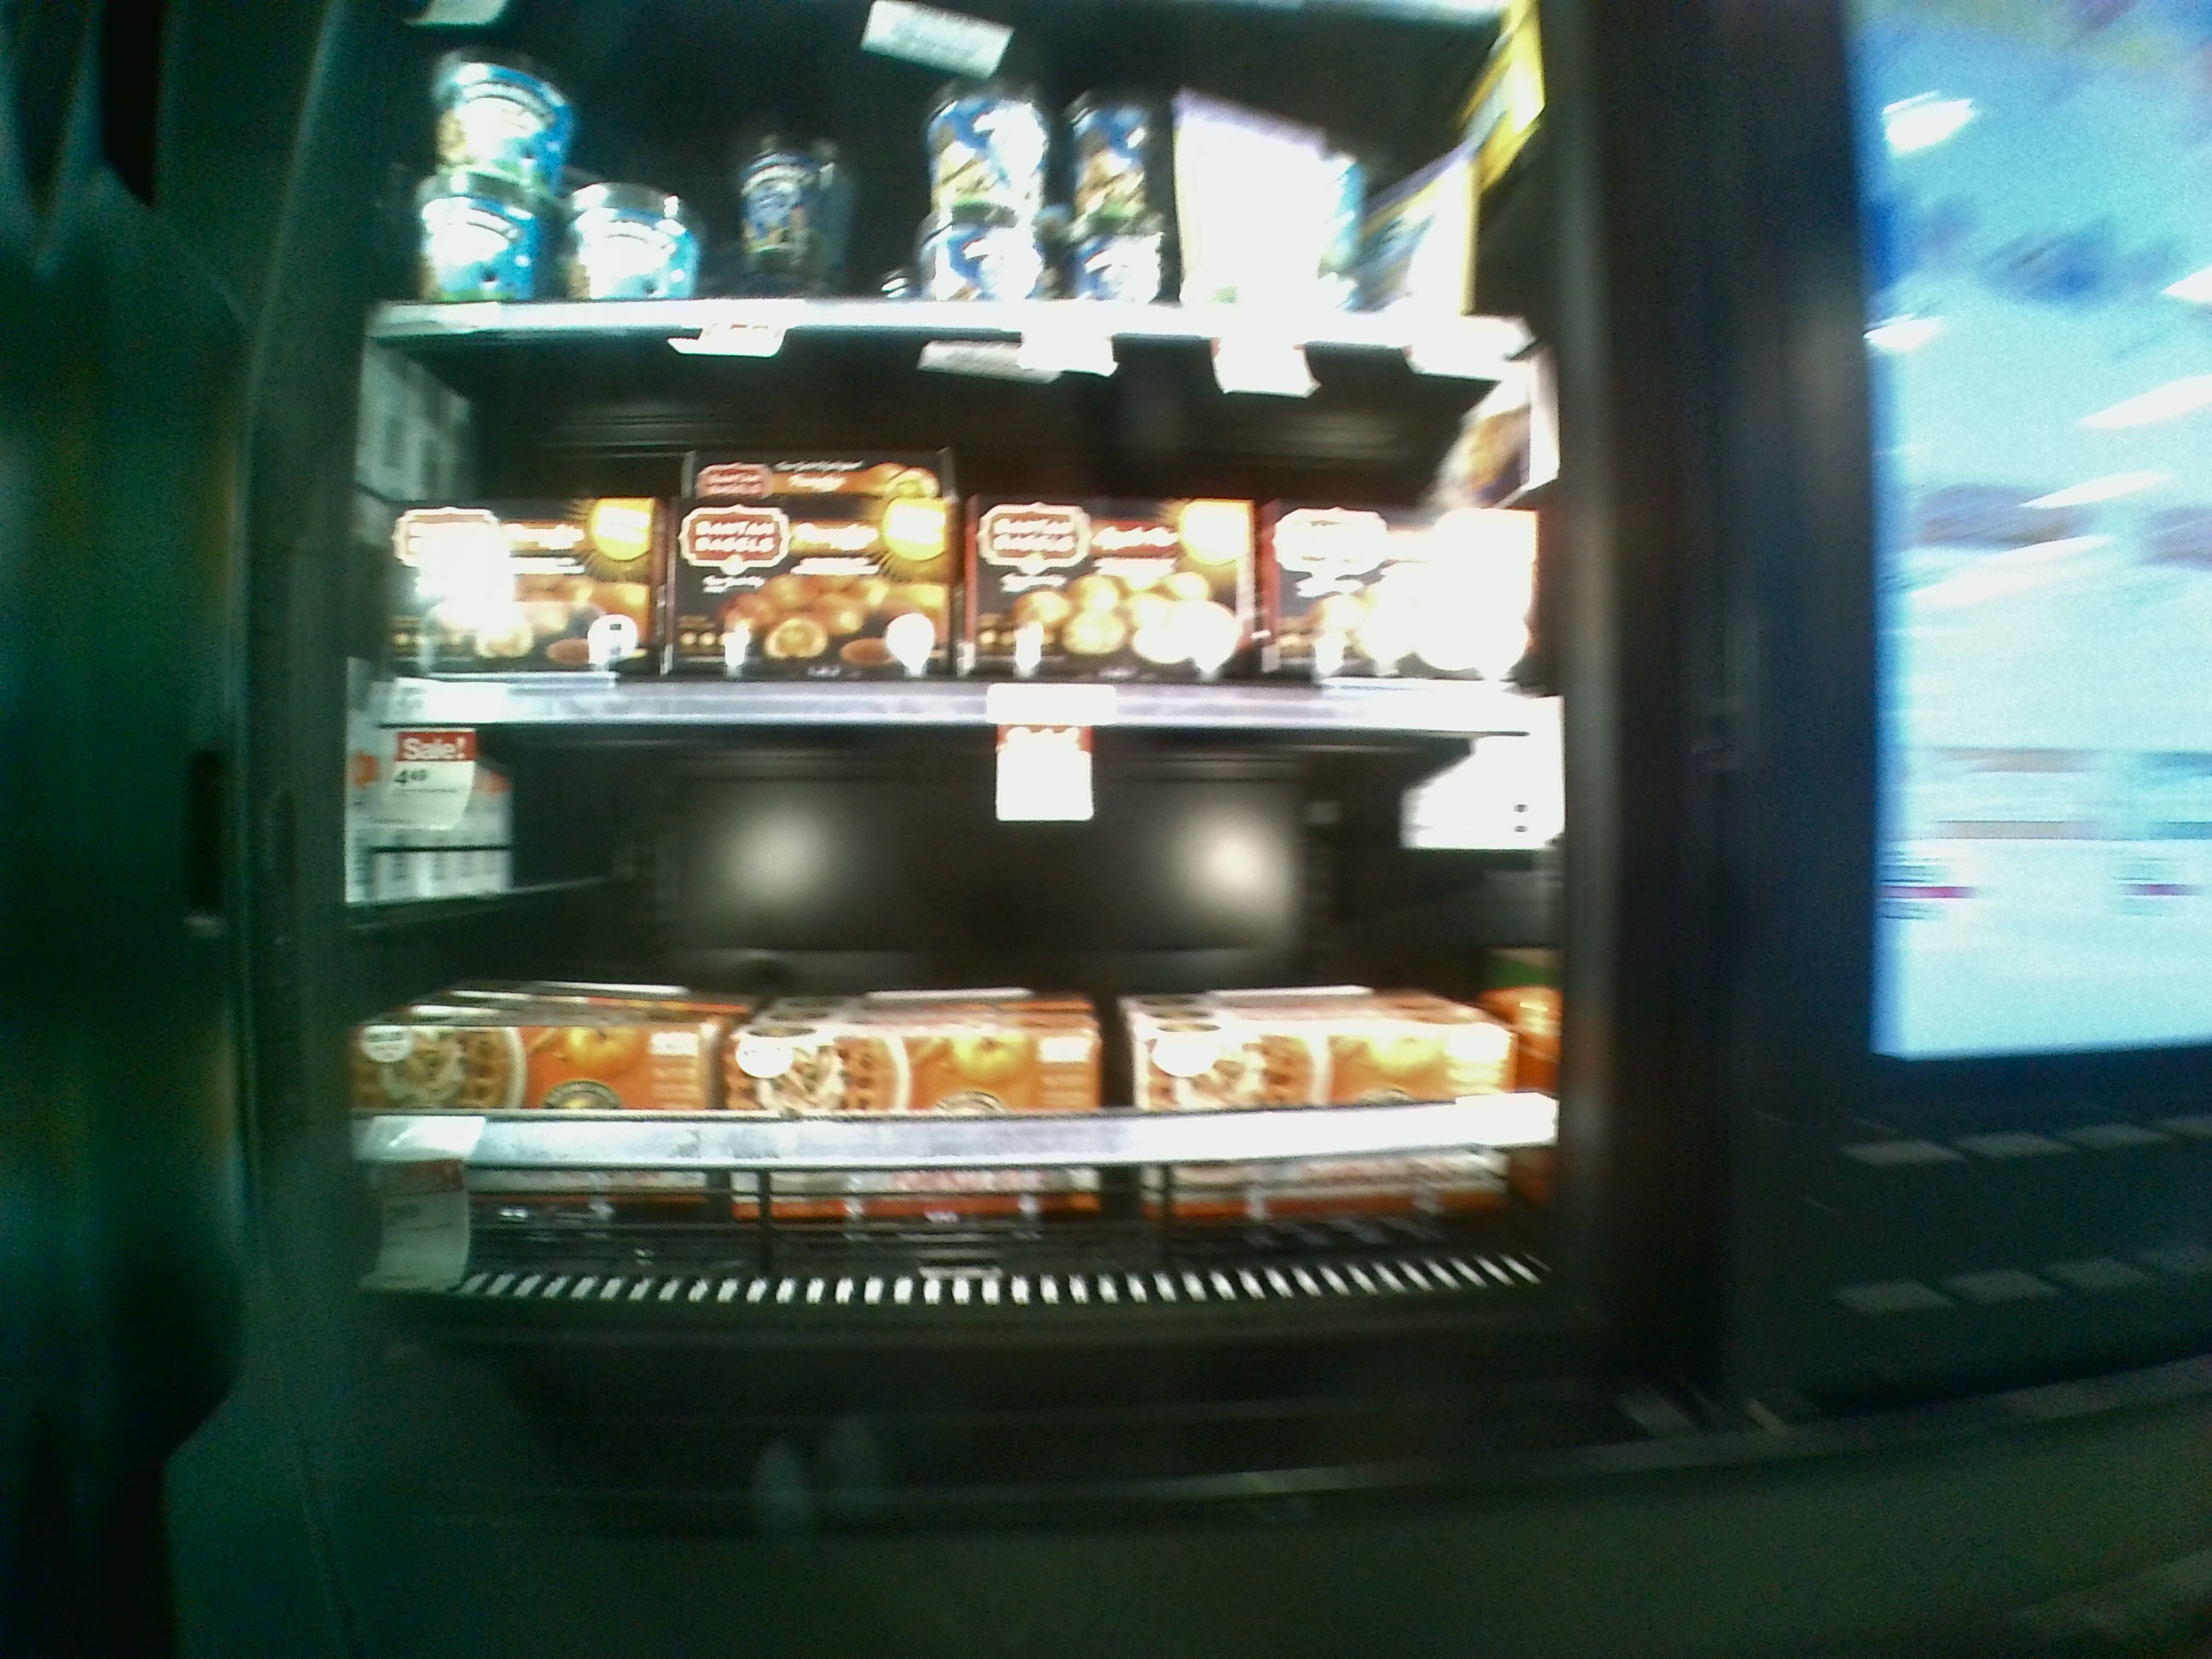shelf: (333, 713, 1575, 1314), (347, 326, 1564, 742)
